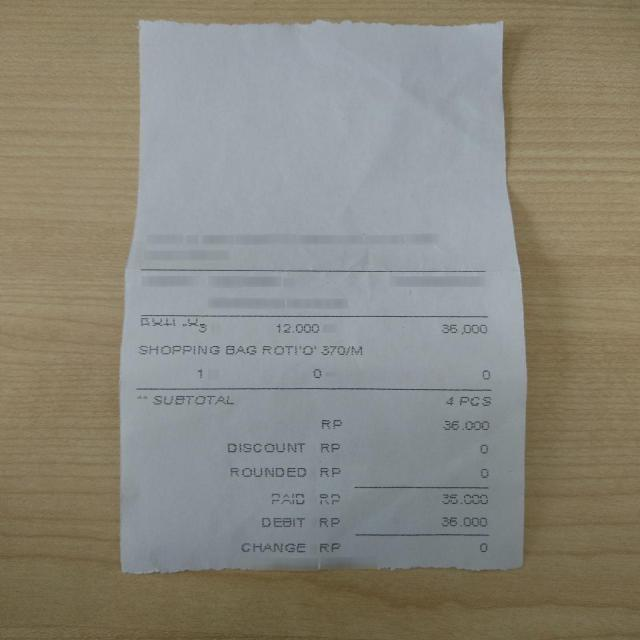kertas: (119, 20, 527, 571)
